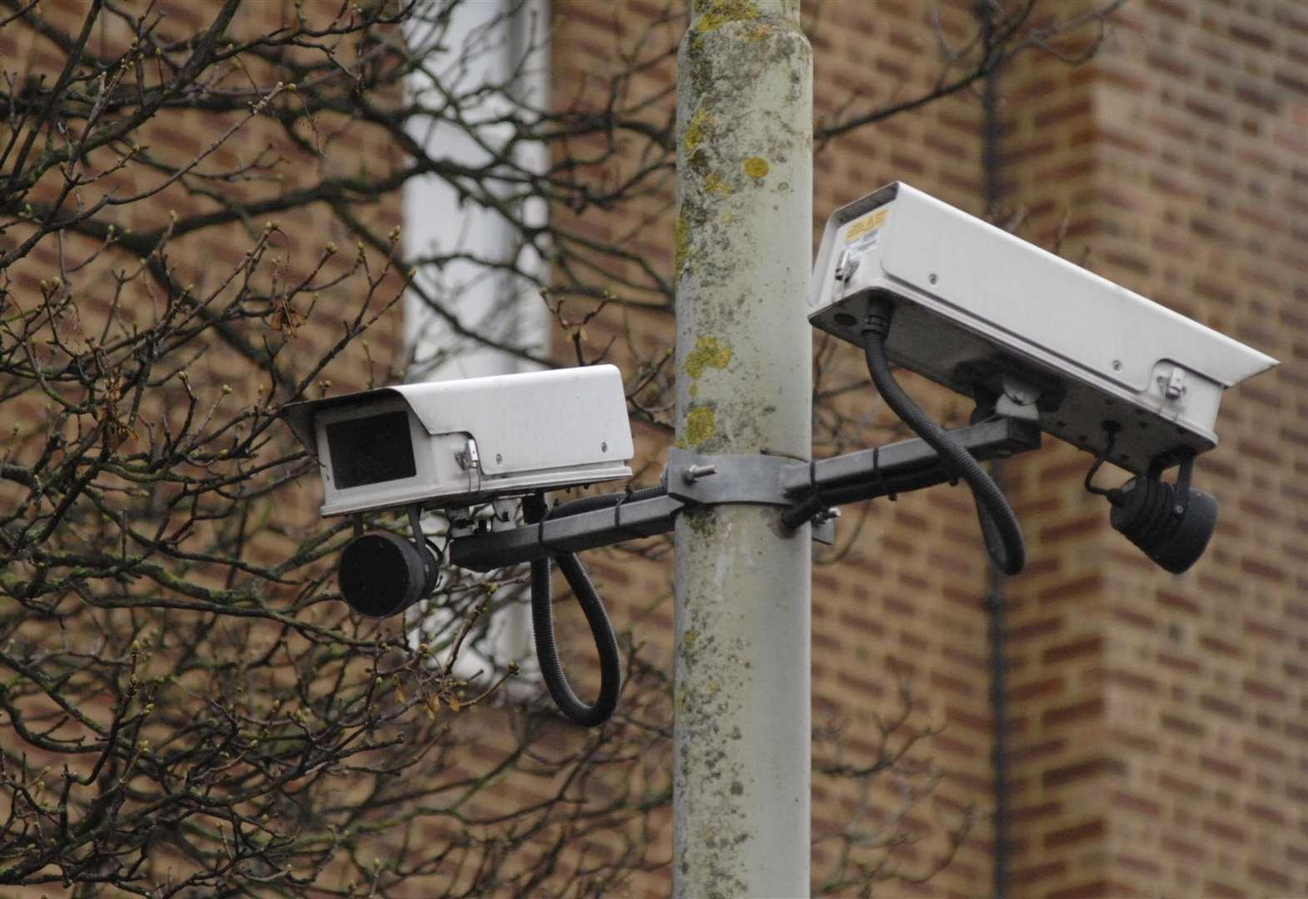CCTV: (285, 181, 1278, 727)
